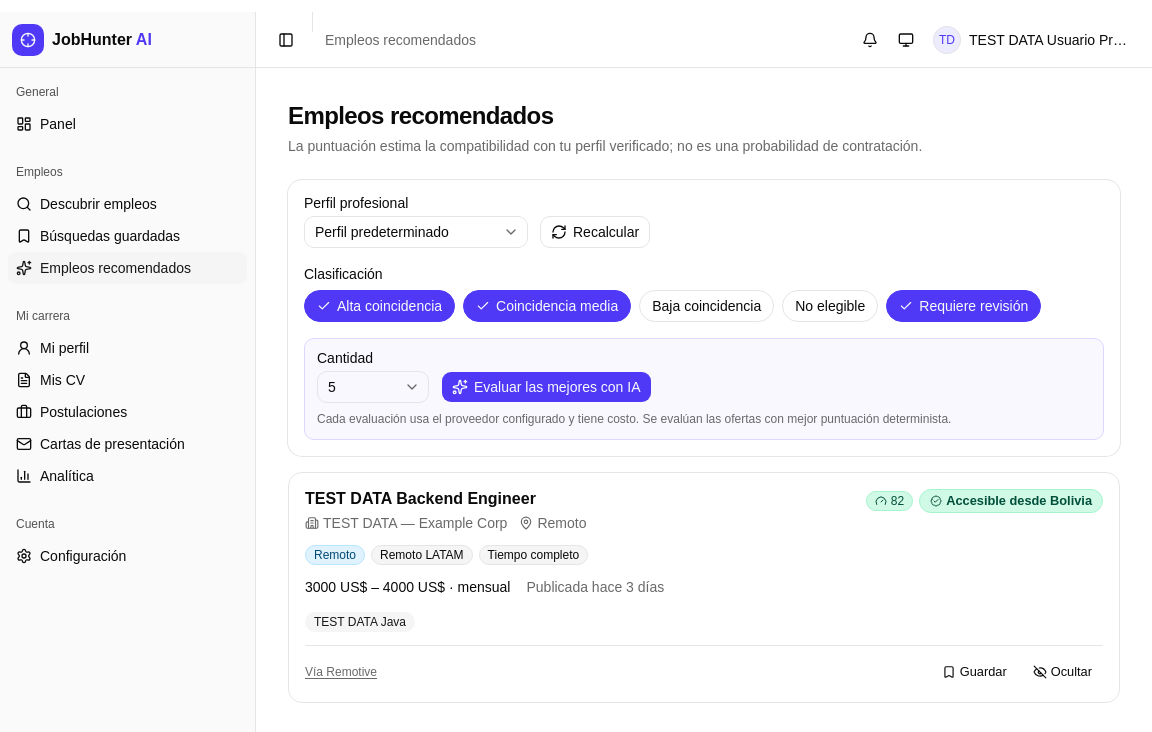
it: Empleos recomendados › filters by classification, recalculates and evaluates the top jobs with AI
Expected: the element "TEST DATA Backend Engineer" is shown, [288,472,1120,703]
Click the button "Requiere revisión": coordinates (964, 306) [886,290,1041,322]
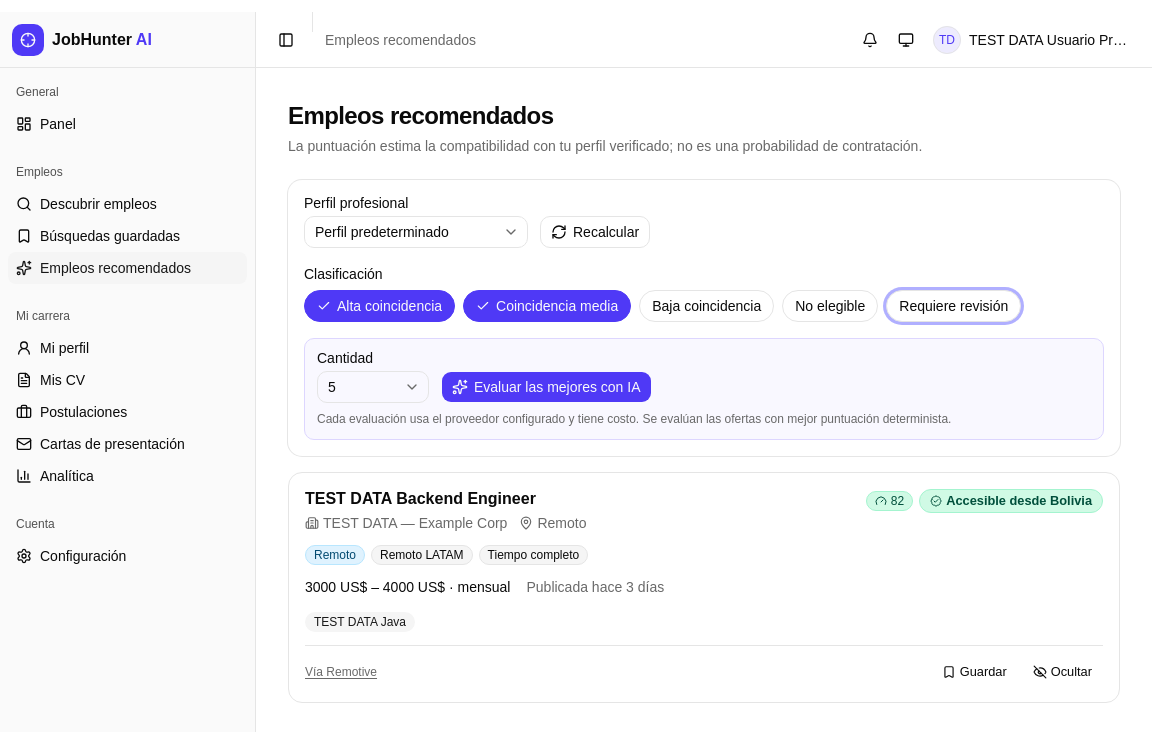
Click the button "Recalcular": coordinates (595, 232) [540,216,650,248]
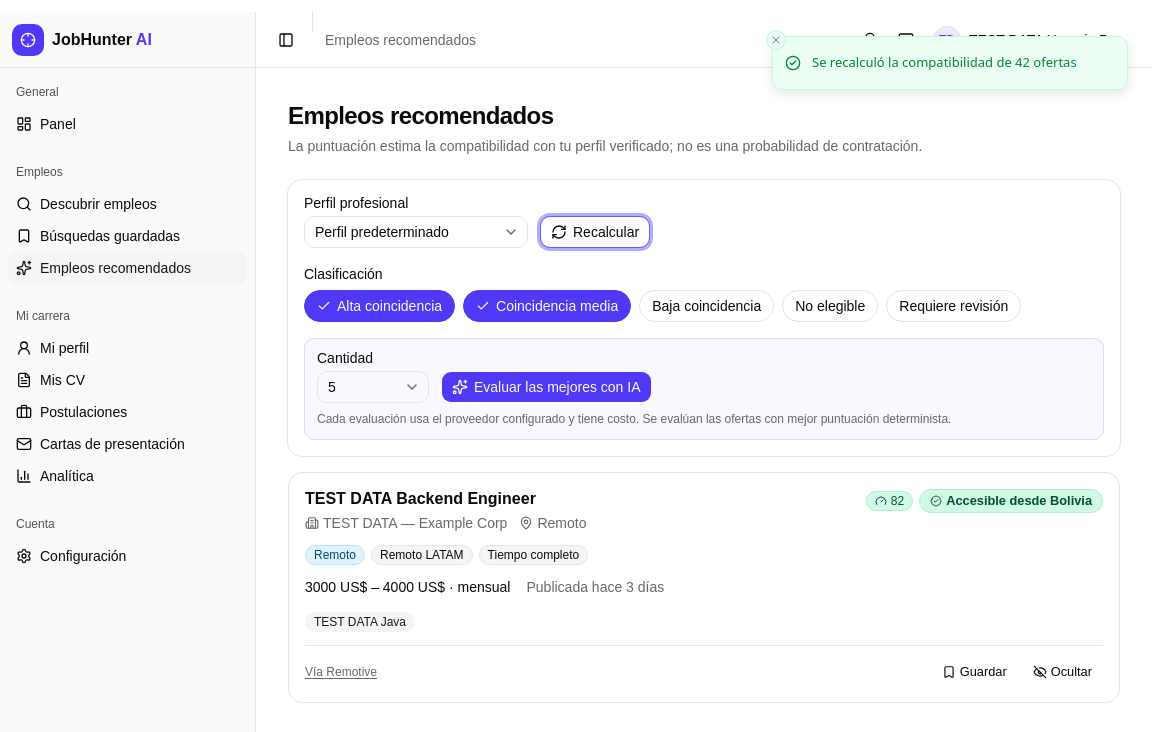
Expected: the text "Cada evaluación usa el proveedor configurado y tiene costo" is shown, [317,412,951,426]
Expected: the text "Se recalculó la compatibilidad de 42 ofertas" is shown, [812,53,1077,72]
Click the button "Evaluar las mejores con IA": coordinates (546, 387) [441,371,652,403]
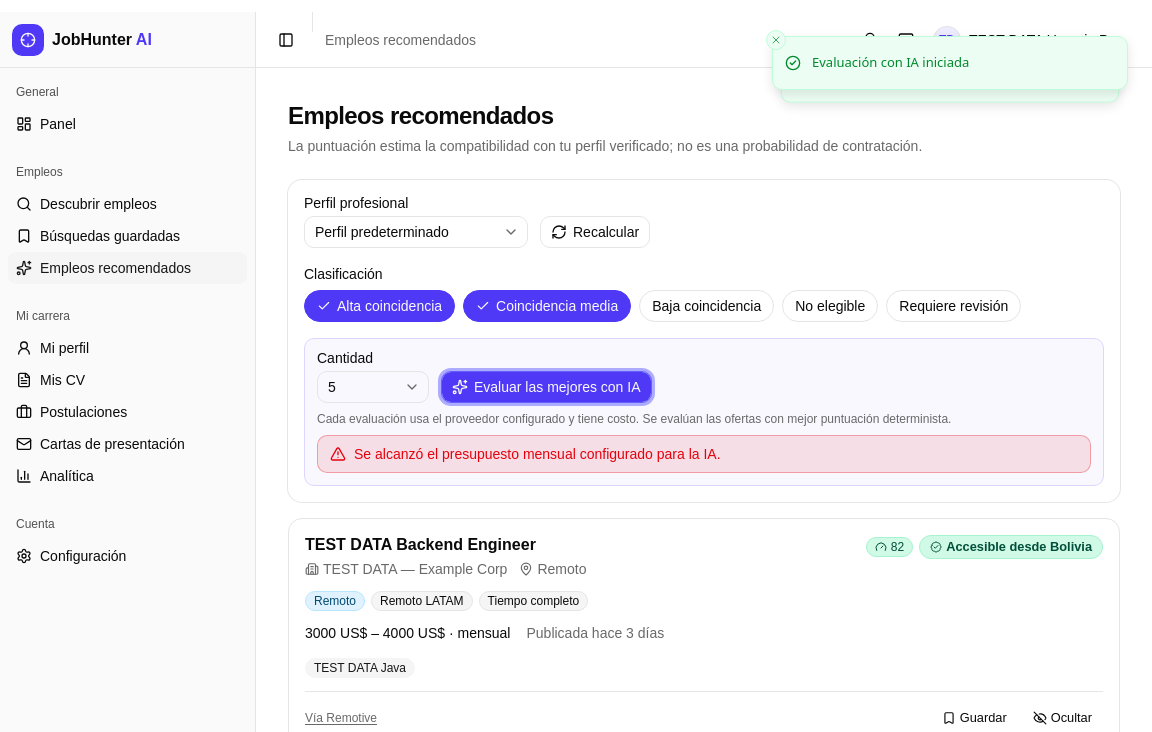
Expected: the text "Se alcanzó el presupuesto mensual configurado para la IA." is shown, [354,444,721,464]
